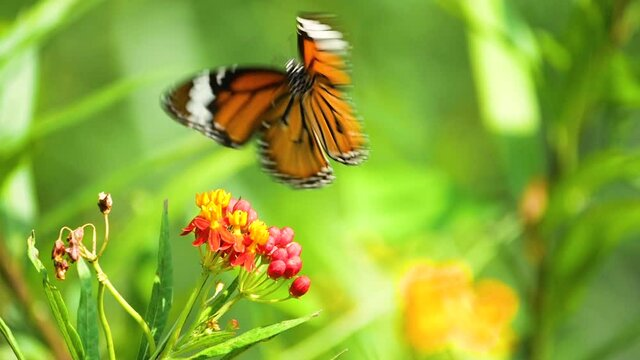Butterfly: (160, 11, 373, 189)
